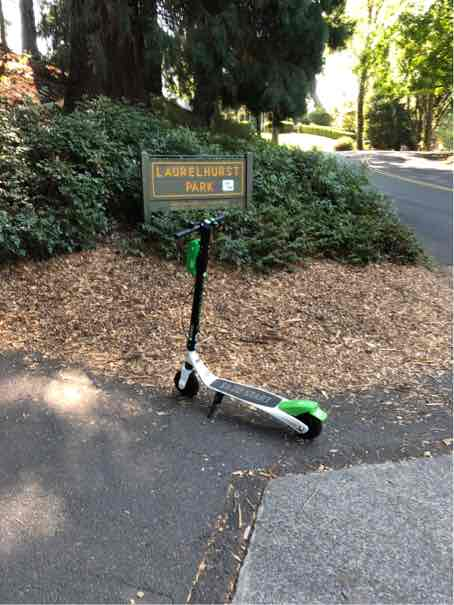scooter: (158, 210, 329, 442)
